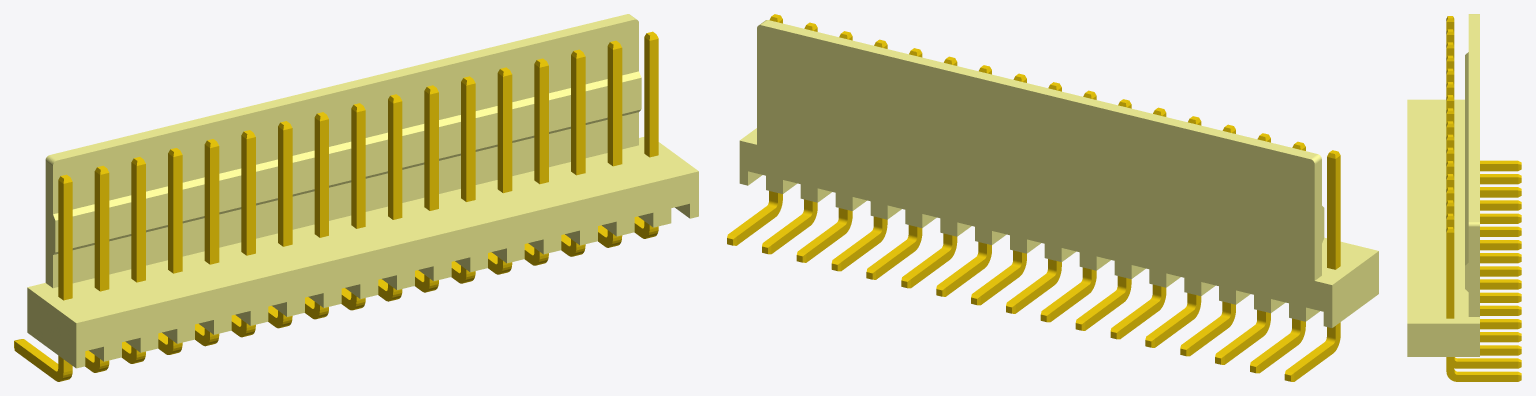
The model's file is DS1070-17MR (WF-17RA CONNFLY).obj.
3 renders of one model, left to right at view 1: azimuth 30°, elevation 25°; view 2: azimuth 150°, elevation 25°; view 3: azimuth 270°, elevation 25°, orthographic. The views are drawn at different scales.
Parts seen in each view (by area): view 1: DS1070-17MR_(WF-17RA_CONNFLY); view 2: DS1070-17MR_(WF-17RA_CONNFLY); view 3: DS1070-17MR_(WF-17RA_CONNFLY).
Boxes of the visible parts, x1,y1,x2,y2 form: DS1070-17MR_(WF-17RA_CONNFLY): [14, 14, 698, 381]; DS1070-17MR_(WF-17RA_CONNFLY): [727, 14, 1378, 381]; DS1070-17MR_(WF-17RA_CONNFLY): [1407, 14, 1521, 381].
Size of the model in its own units: 0.0264 by 0.00862 by 0.00569.
